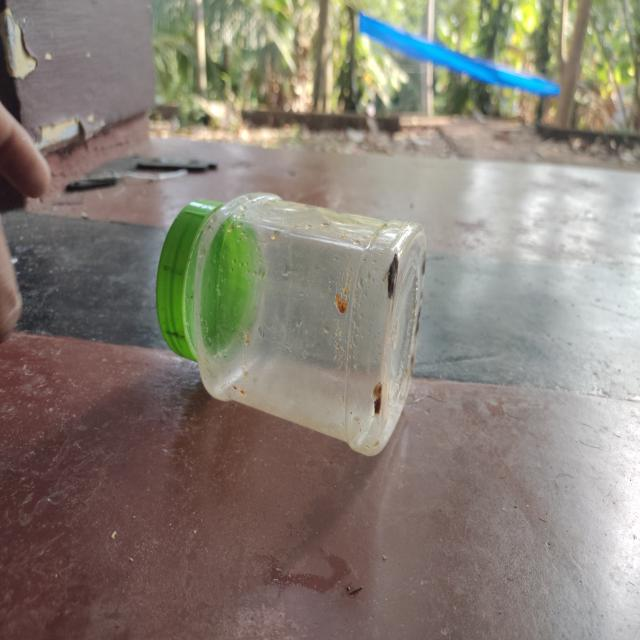plastic: (155, 194, 428, 459)
